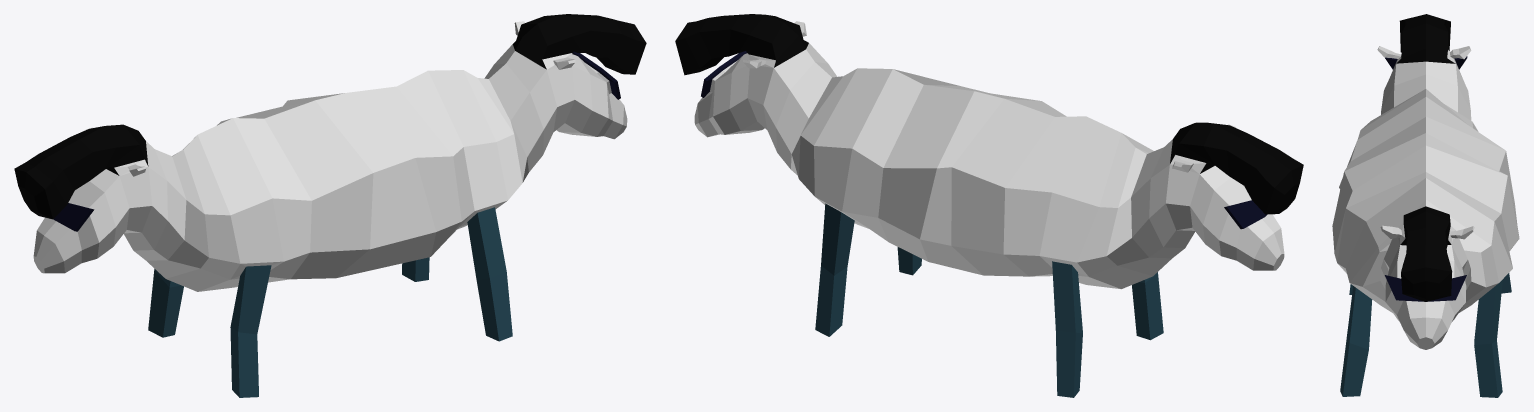
Rendered from moutonV2.fbx.
3 renders of one model, left to right at view 1: azimuth 30°, elevation 25°; view 2: azimuth 150°, elevation 25°; view 3: azimuth 270°, elevation 25°, orthographic. The views are drawn at different scales.
Parts seen in each view (by area): view 1: Cylinder; view 2: Cylinder; view 3: Cylinder.
Part boxes in pixels (x1,y1,x2,y2): Cylinder: (14, 14, 646, 397); Cylinder: (675, 14, 1303, 397); Cylinder: (1332, 14, 1519, 397).
Bounding box in the file's own units: 9.53 × 3.94 × 2.95.
